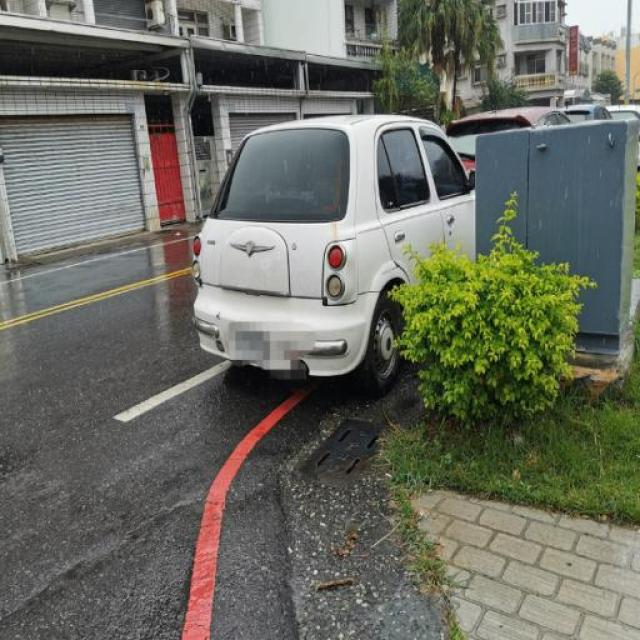illegalparking: (164, 83, 518, 491)
